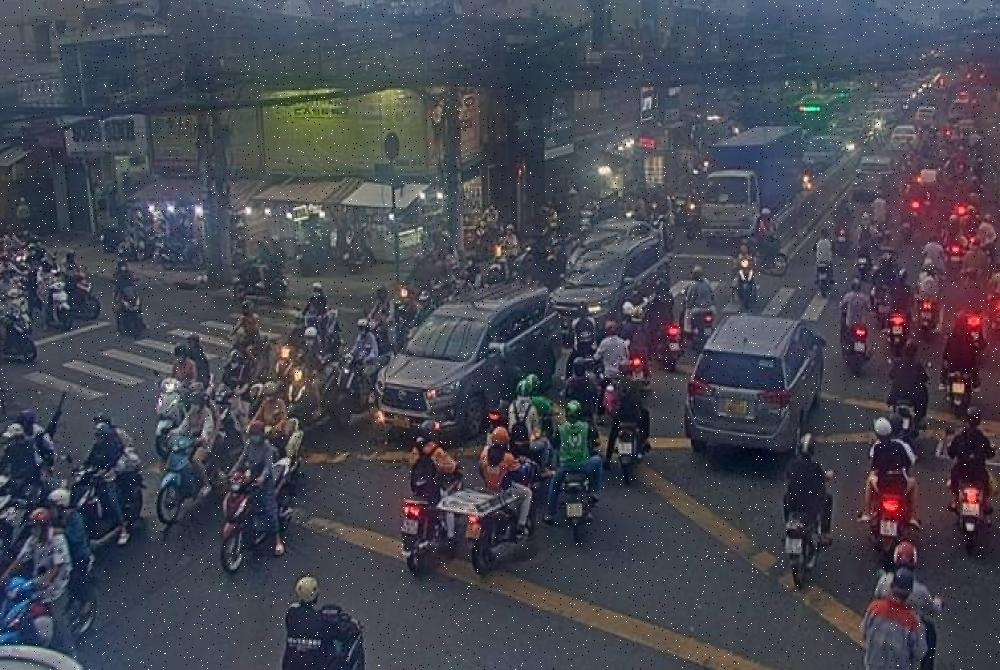car: (377, 290, 562, 440), (688, 314, 825, 450)
